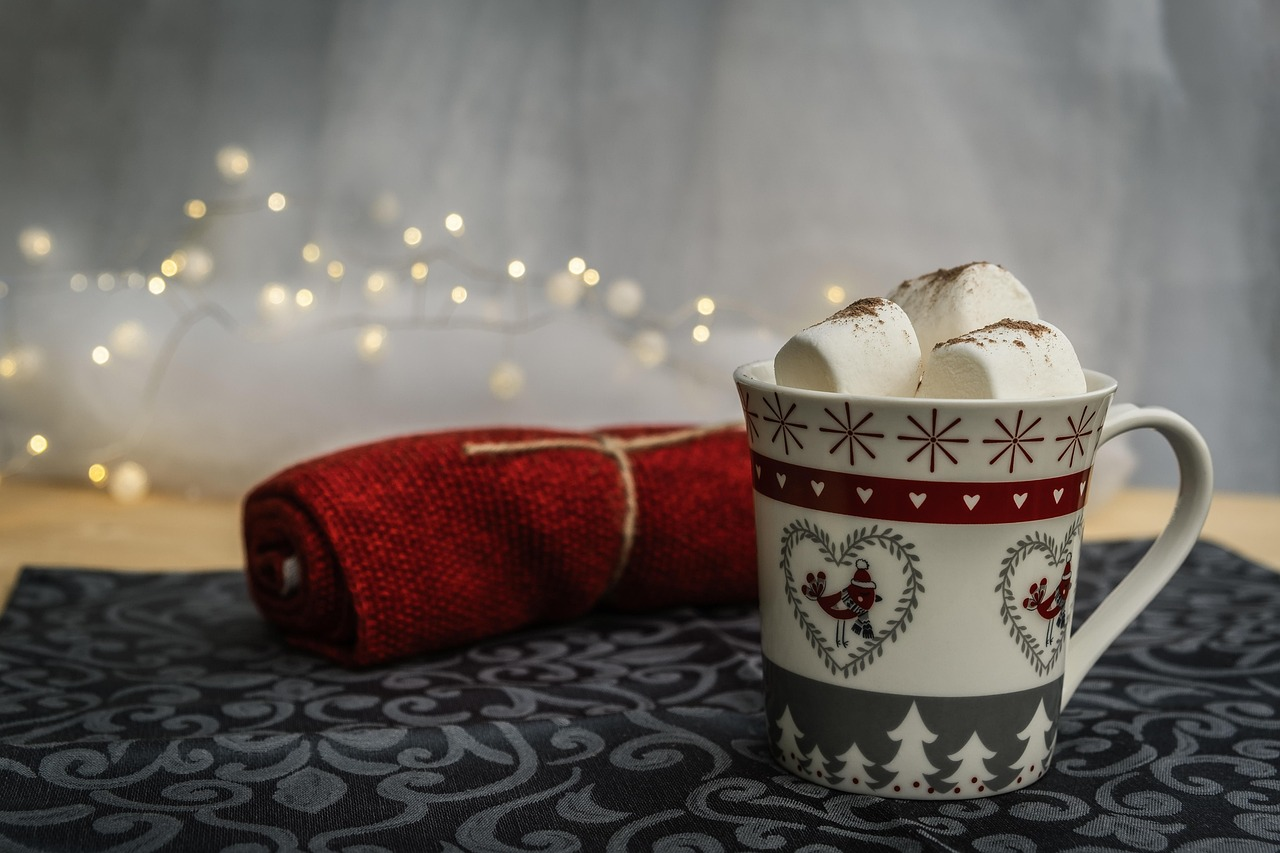mug: (705, 245, 1232, 806)
